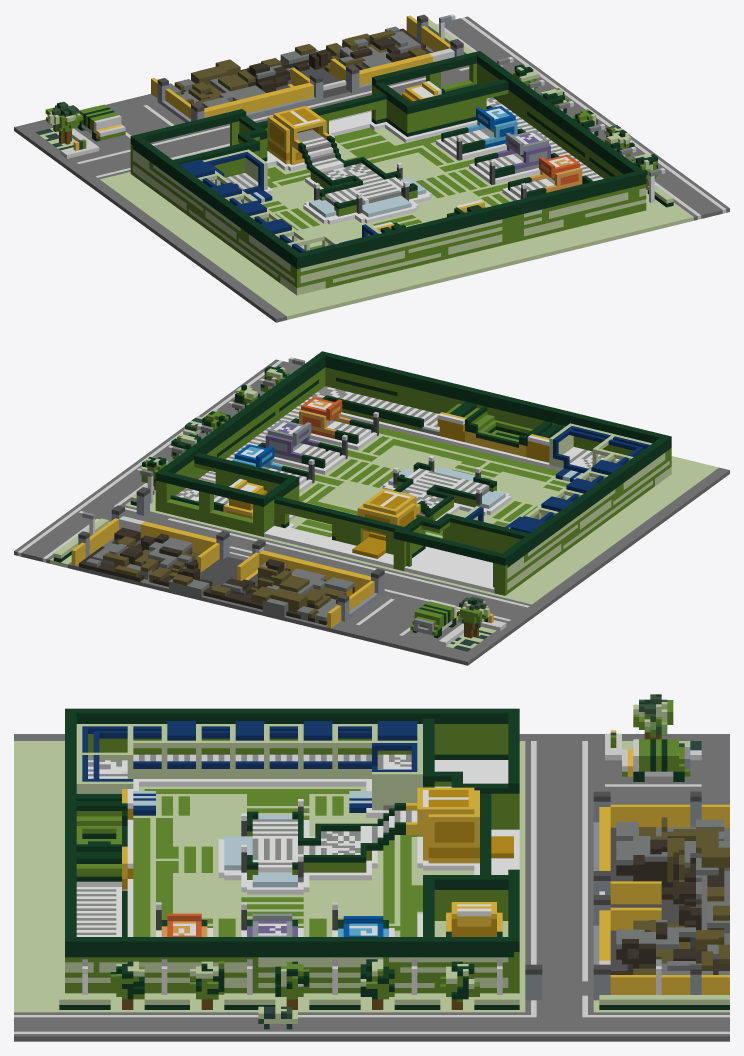
The model's file is finalfinal.obj.
3 views of the same model, one above another, from view 1: azimuth 30°, elevation 25°; view 2: azimuth 150°, elevation 25°; view 3: azimuth 270°, elevation 25° (orthographic). The views are drawn at different scales.
Size of the model in its own units: 12.6 by 1.2 by 12.6.
